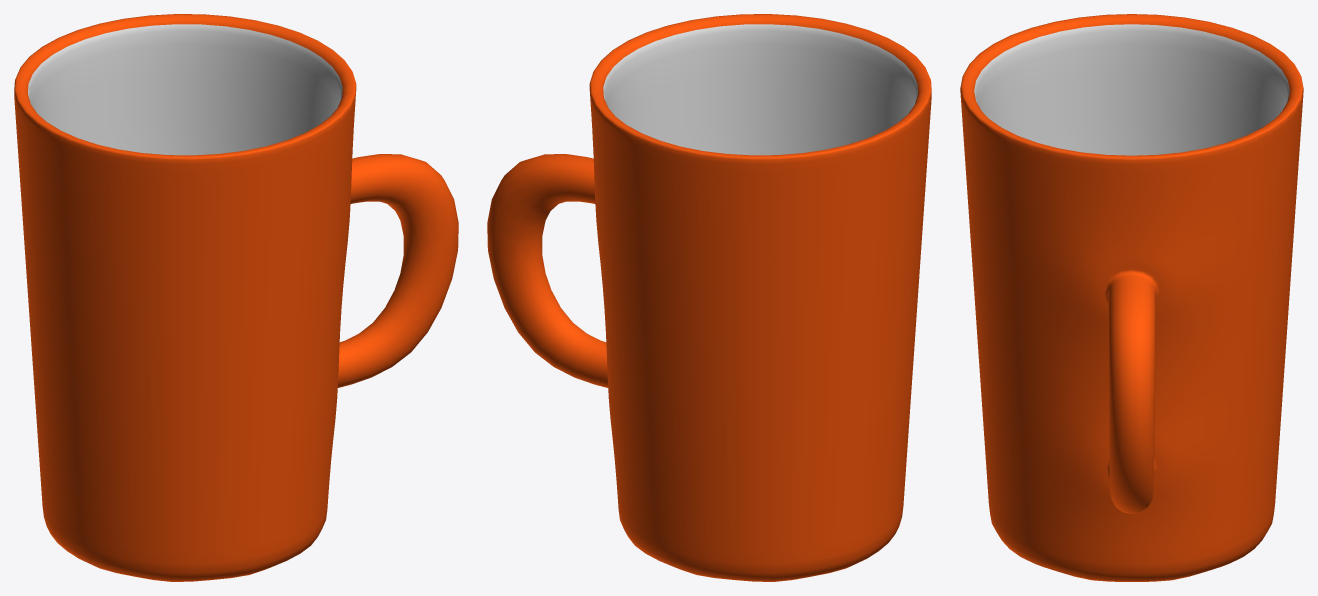
The model's file is mug.gltf.
3 views of the same model, side by side, from view 1: azimuth 30°, elevation 25°; view 2: azimuth 150°, elevation 25°; view 3: azimuth 270°, elevation 25° (orthographic).
Visible parts, largest first — view 1: Cylinder; view 2: Cylinder; view 3: Cylinder.
Boxes of the visible parts, x1=… form: Cylinder: x1=14, y1=14, x2=458, y2=581; Cylinder: x1=487, y1=14, x2=931, y2=581; Cylinder: x1=960, y1=14, x2=1303, y2=581.
Size of the model in its own units: 2.9 by 2.99 by 2.05.
